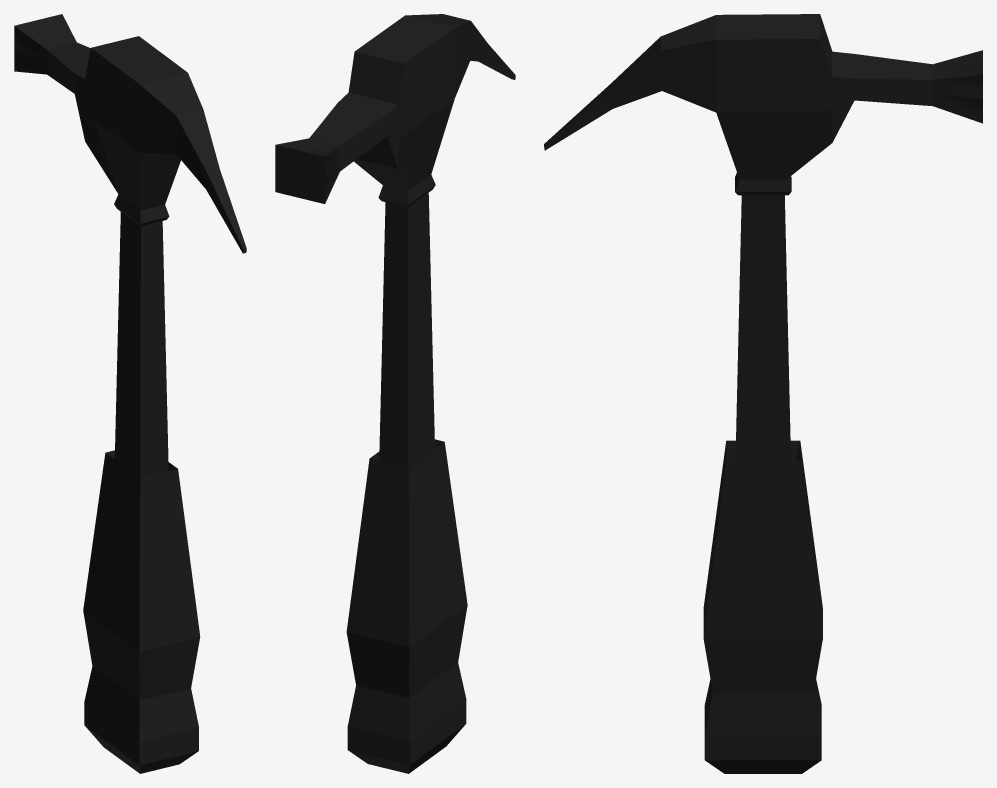
File: Hammer.glb
3 renders of one model, left to right at view 1: azimuth 30°, elevation 25°; view 2: azimuth 150°, elevation 25°; view 3: azimuth 270°, elevation 25°, orthographic. The views are drawn at different scales.
Parts seen in each view (by area): view 1: Hammer; view 2: Hammer; view 3: Hammer.
Boxes of the visible parts, <box> form: Hammer: <box>14,14,246,773</box>; Hammer: <box>275,14,515,773</box>; Hammer: <box>544,14,982,773</box>.
Size of the model in its own units: 0.2183 by 2.38 by 1.28.
Materials: 1 (1 with a texture image).
